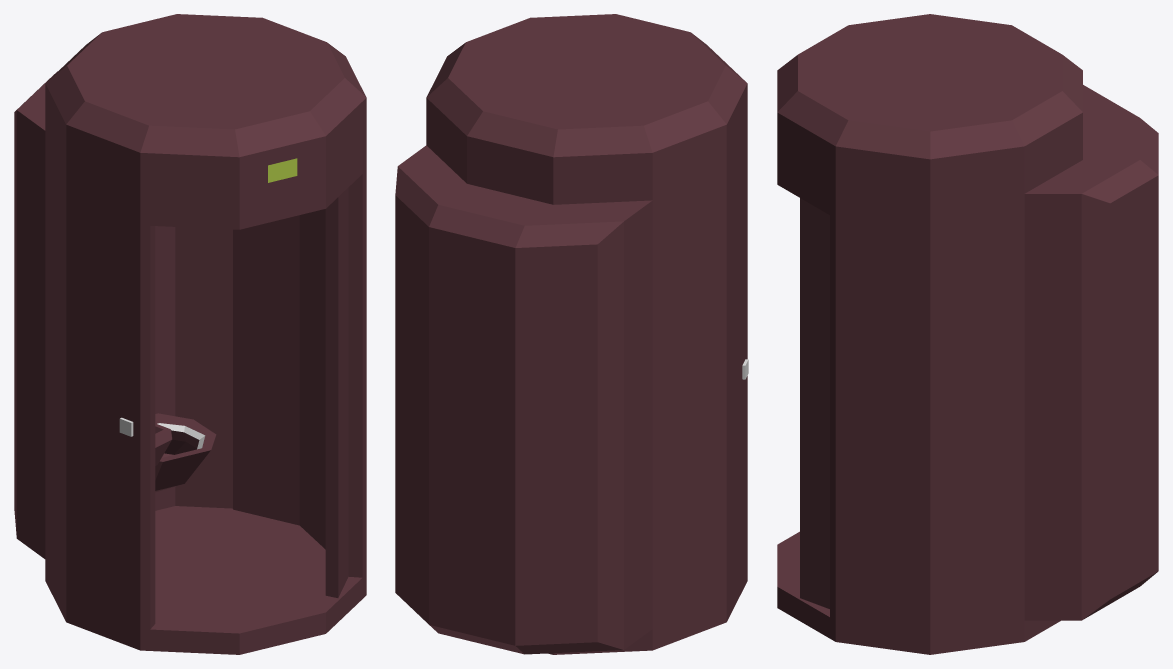
File: scifi-toilet-open.fbx
The picture shows the model from 3 angles, left to right: view 1: azimuth 30°, elevation 25°; view 2: azimuth 150°, elevation 25°; view 3: azimuth 270°, elevation 25°; orthographic projection.
Visible parts, largest first — view 1: scifi-toilet-open; view 2: scifi-toilet-open; view 3: scifi-toilet-open.
Boxes of the visible parts, x1=… form: scifi-toilet-open: x1=14, y1=14, x2=366, y2=654; scifi-toilet-open: x1=395, y1=14, x2=748, y2=654; scifi-toilet-open: x1=777, y1=14, x2=1158, y2=654.
Bounding box in the file's own units: 1.37 × 2.41 × 1.62.
